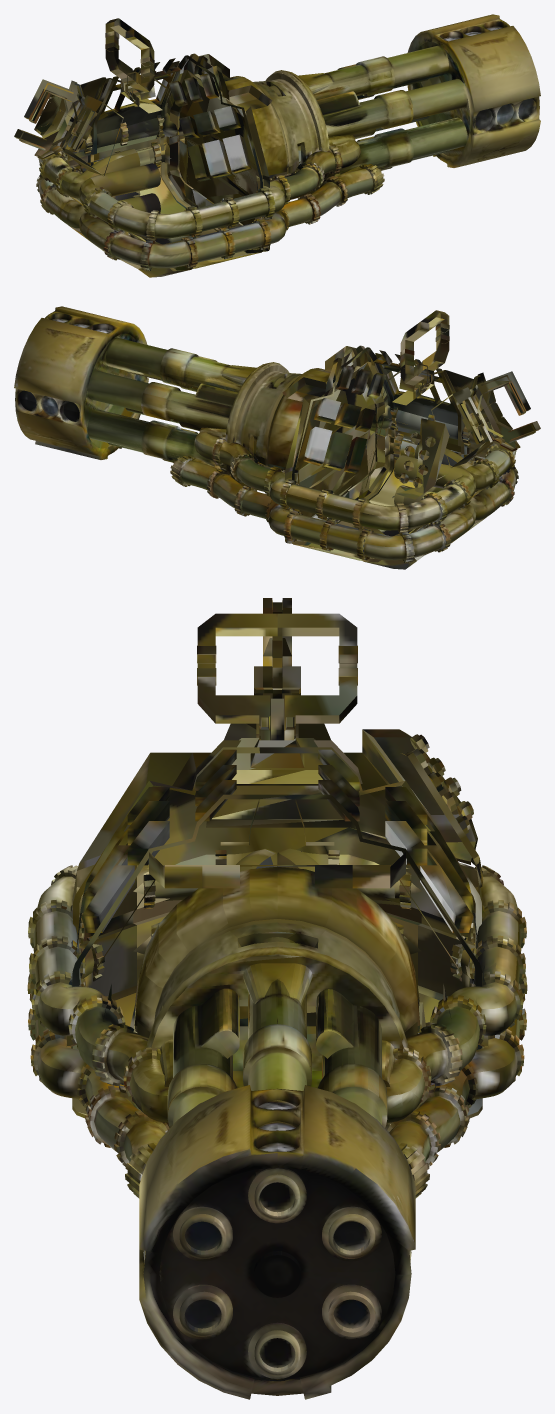
Rendered from texture.glb.
3 renders of one model, top to bottom at view 1: azimuth 30°, elevation 25°; view 2: azimuth 150°, elevation 25°; view 3: azimuth 270°, elevation 25°, orthographic. The views are drawn at different scales.
Parts seen in each view (by area): view 1: mvadapter_node_texture_mesh_fd8a5640abab0b9f; view 2: mvadapter_node_texture_mesh_fd8a5640abab0b9f; view 3: mvadapter_node_texture_mesh_fd8a5640abab0b9f.
Boxes of the visible parts, bbox=[...] form: mvadapter_node_texture_mesh_fd8a5640abab0b9f: bbox=[14, 14, 540, 277]; mvadapter_node_texture_mesh_fd8a5640abab0b9f: bbox=[14, 306, 540, 569]; mvadapter_node_texture_mesh_fd8a5640abab0b9f: bbox=[27, 598, 527, 1399].
Size of the model in its own units: 9.25 by 3.91 by 4.07.
1 material, 1 textured.
